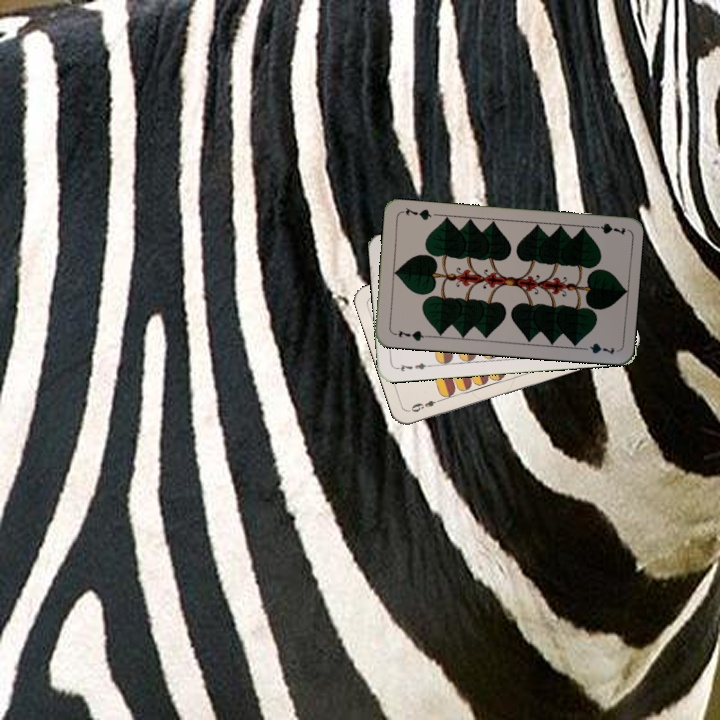E7: (392, 359, 432, 374)
E9: (405, 395, 445, 415)
G7: (587, 219, 627, 237), (389, 326, 430, 343)
